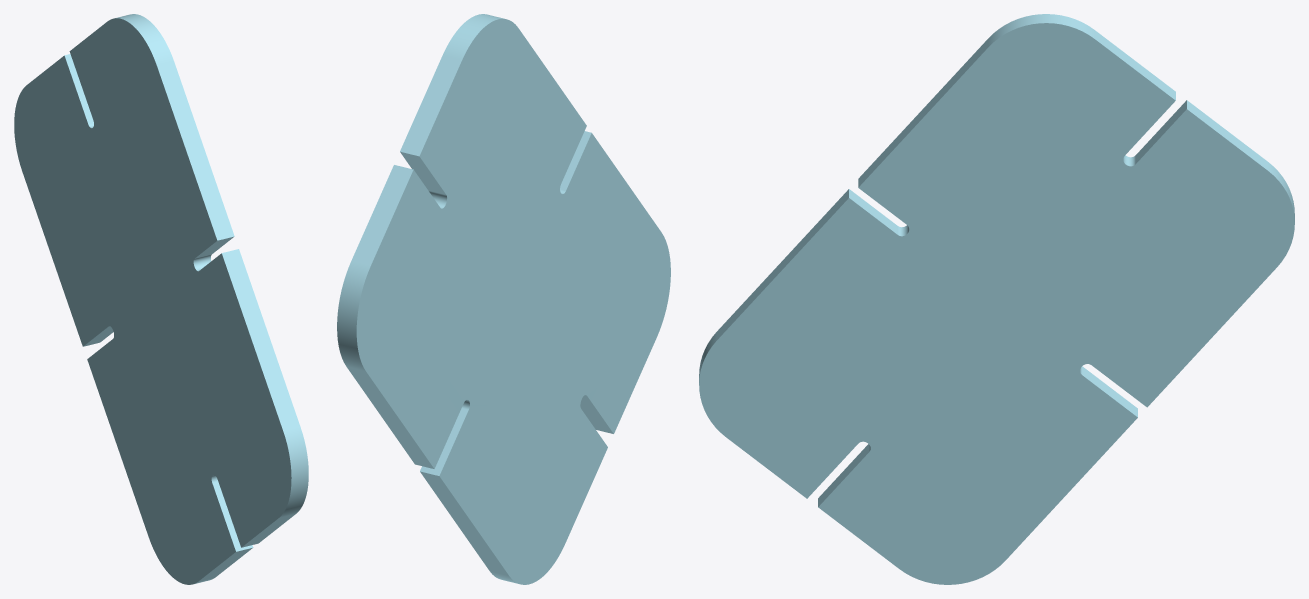
File: piezarectangular.glb
3 views of the same model, side by side, from view 1: azimuth 30°, elevation 25°; view 2: azimuth 150°, elevation 25°; view 3: azimuth 270°, elevation 25° (orthographic). The views are drawn at different scales.
Parts seen in each view (by area): view 1: Componente1; view 2: Componente1; view 3: Componente1.
Boxes of the visible parts, x1,y1,x2,y2 form: Componente1: (14,14,308,584); Componente1: (337,14,670,584); Componente1: (699,14,1294,584).
Size of the model in its own units: 10 by 289 by 278.
